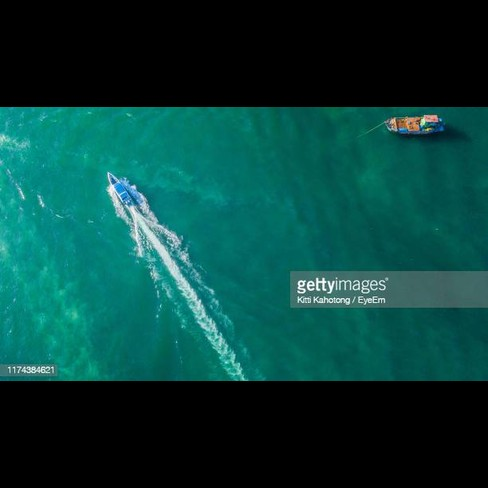boat: (356, 111, 447, 152), (101, 165, 148, 224)
